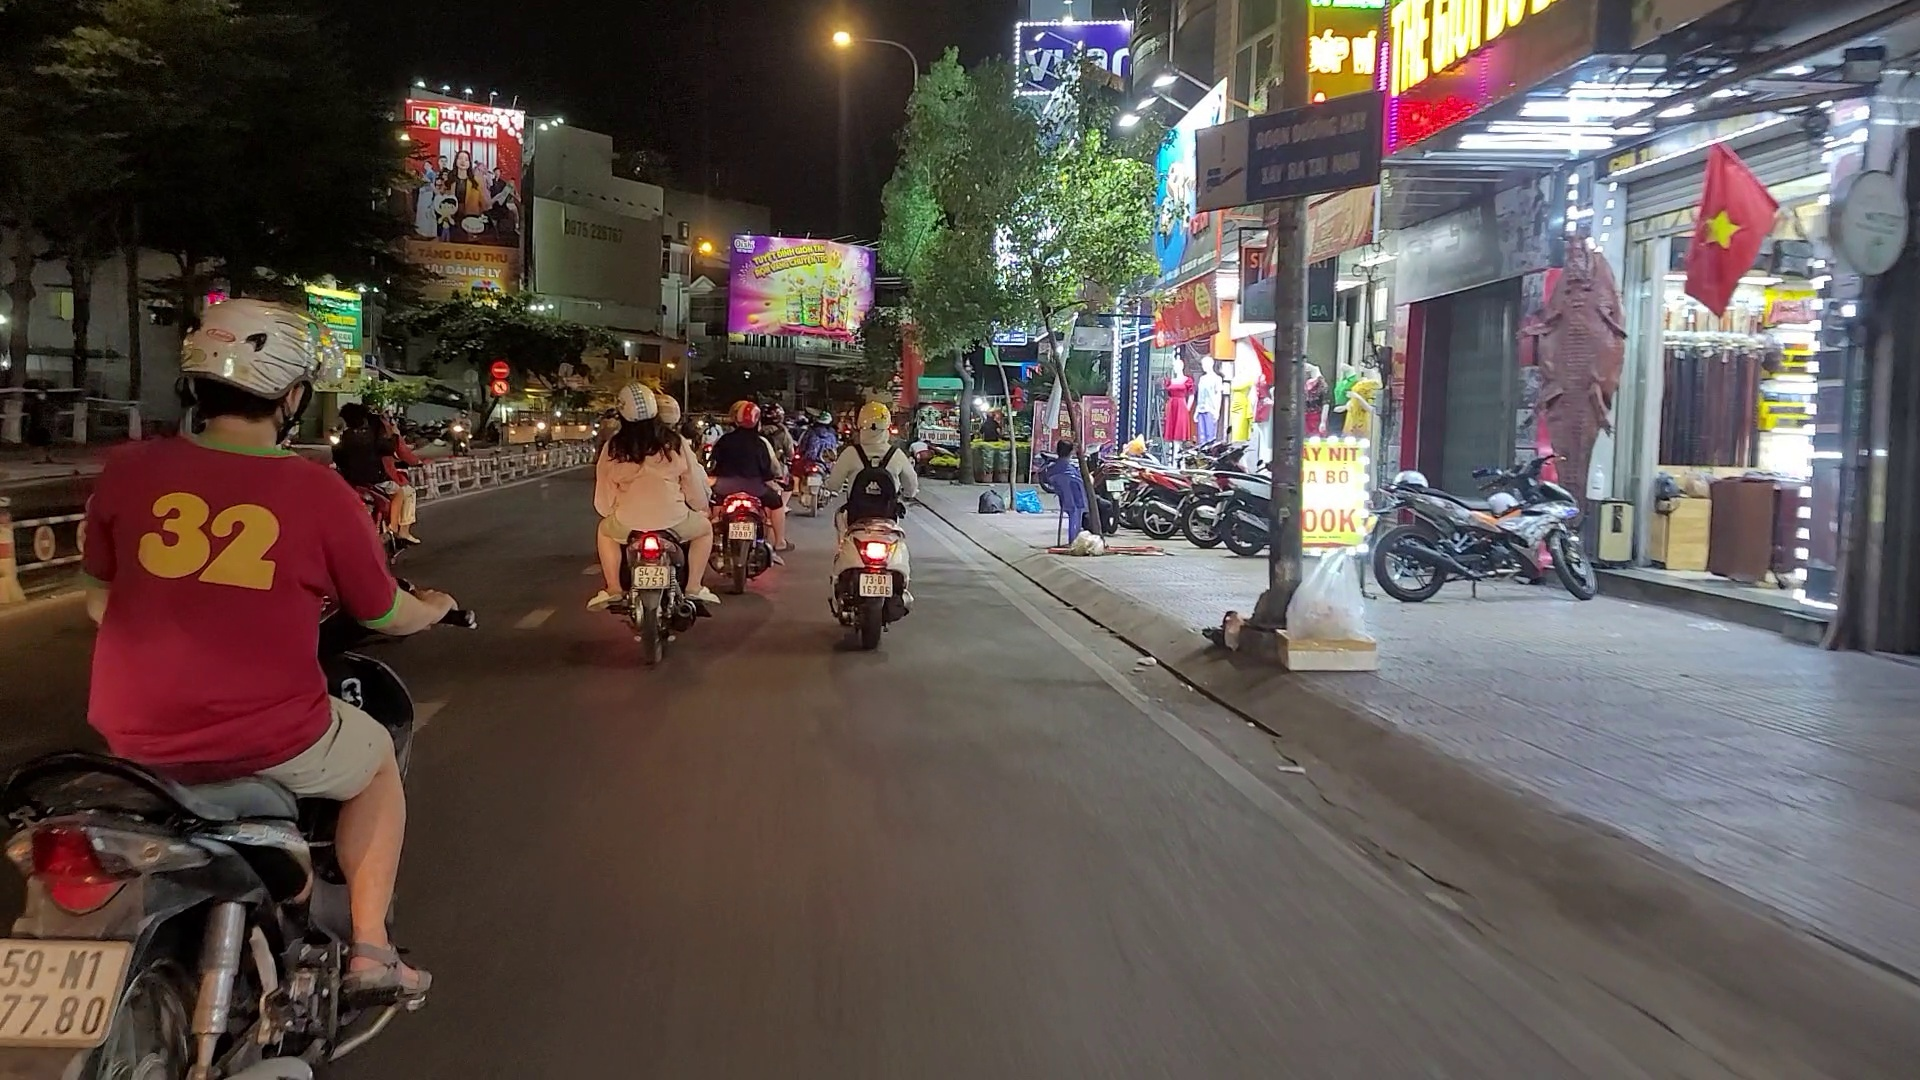Bien khac: (1189, 91, 1389, 218)
